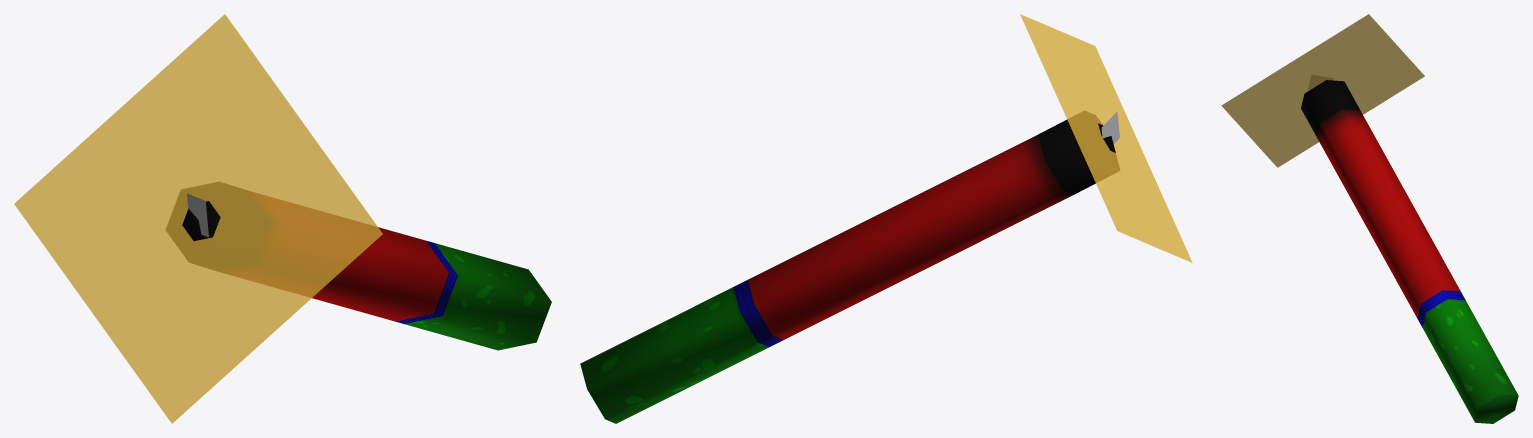
The picture shows the model from 3 angles, left to right: view 1: azimuth 30°, elevation 25°; view 2: azimuth 150°, elevation 25°; view 3: azimuth 270°, elevation 25°; orthographic projection. The views are drawn at different scales.
Visible parts, largest first — view 1: "object0035_Editable Poly", object0003_K1250, "object0044_Editable Poly"; view 2: object0003_K1250, "object0035_Editable Poly"; view 3: object0003_K1250, "object0035_Editable Poly".
Boxes of the visible parts, left/top/right/bottom form: "object0035_Editable Poly": left=14, top=14, right=382, bottom=423; object0003_K1250: left=166, top=182, right=551, bottom=350; "object0044_Editable Poly": left=187, top=193, right=208, bottom=237; object0003_K1250: left=580, top=111, right=1119, bottom=423; "object0035_Editable Poly": left=1020, top=14, right=1192, bottom=262; object0003_K1250: left=1301, top=80, right=1518, bottom=423; "object0035_Editable Poly": left=1221, top=14, right=1424, bottom=167.
Size of the model in its own units: 0.1695 by 0.1403 by 0.1259.
